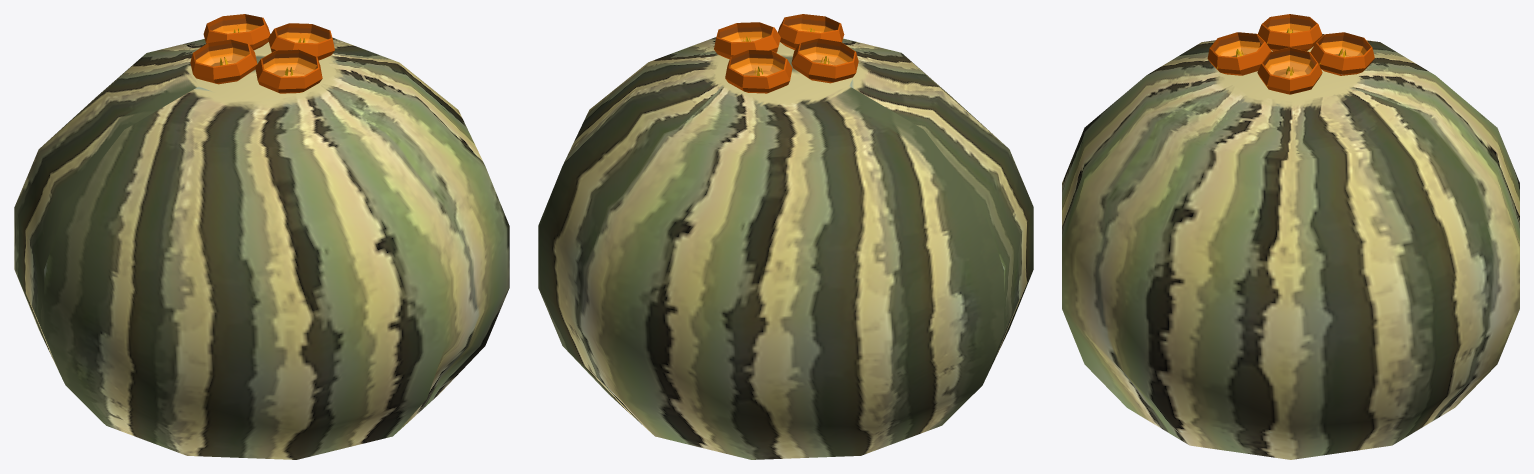
File: ghostWestern_environment_barrelCactus.fbx
The picture shows the model from 3 angles, left to right: view 1: azimuth 30°, elevation 25°; view 2: azimuth 150°, elevation 25°; view 3: azimuth 270°, elevation 25°; orthographic projection.
Parts seen in each view (by area): view 1: polySurface6, polySurface8, polySurface10, polySurface9, polySurface7; view 2: polySurface6, polySurface7, polySurface10, polySurface9, polySurface8; view 3: polySurface6, polySurface9, polySurface7, polySurface8, polySurface10.
Boxes of the visible parts, x1,y1,x2,y2 form: polySurface6: [14, 33, 509, 459]; polySurface8: [255, 49, 322, 93]; polySurface10: [190, 39, 257, 84]; polySurface9: [268, 23, 334, 60]; polySurface7: [203, 14, 270, 50]; polySurface6: [538, 37, 1033, 459]; polySurface7: [725, 49, 792, 93]; polySurface10: [791, 38, 858, 83]; polySurface9: [714, 22, 780, 59]; polySurface8: [778, 14, 844, 50]; polySurface6: [1062, 34, 1519, 459]; polySurface9: [1257, 47, 1322, 94]; polySurface7: [1310, 32, 1374, 75]; polySurface8: [1207, 32, 1271, 75]; polySurface10: [1258, 14, 1322, 51].
Size of the model in its own units: 4.6 by 3.51 by 4.23.
